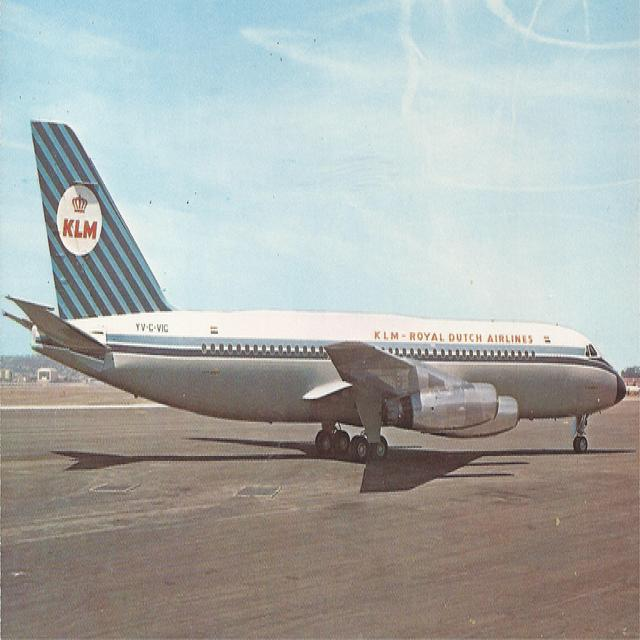airplane: (2, 117, 628, 466)
